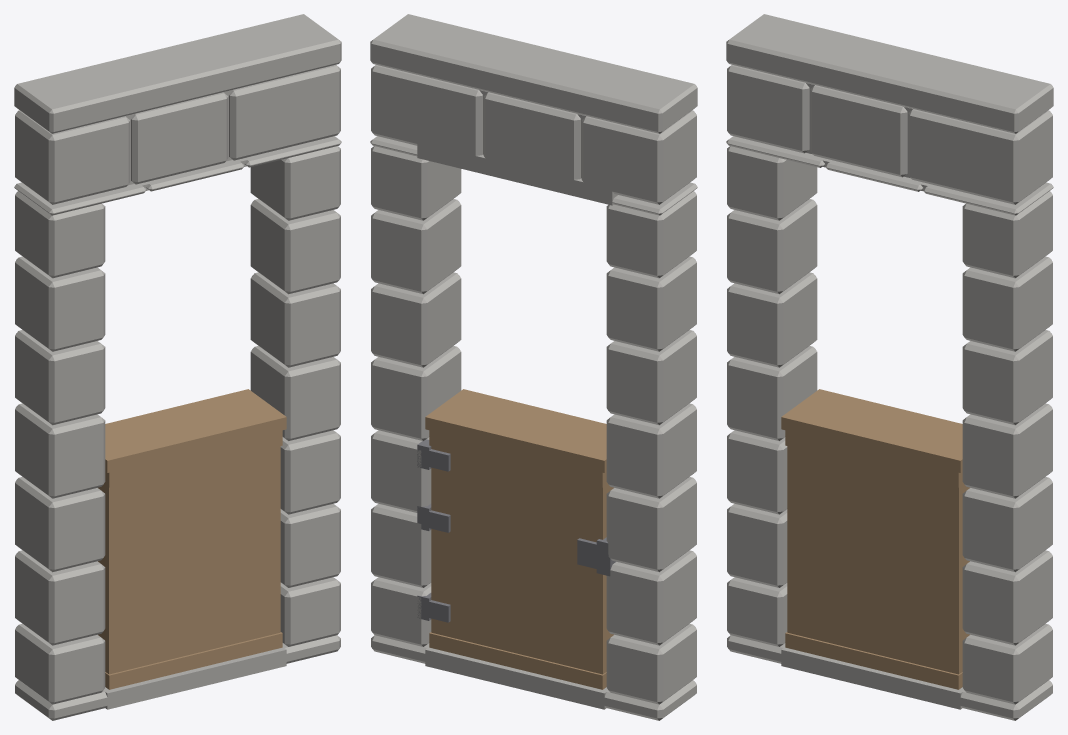
The model's file is wall-stable-door.fbx.
3 renders of one model, left to right at view 1: azimuth 30°, elevation 25°; view 2: azimuth 150°, elevation 25°; view 3: azimuth 330°, elevation 25°, orthographic.
Visible parts, largest first — view 1: wall-stable-door; view 2: wall-stable-door; view 3: wall-stable-door.
Boxes of the visible parts, left/top/right/bottom form: wall-stable-door: left=14, top=14, right=341, bottom=720; wall-stable-door: left=370, top=14, right=697, bottom=720; wall-stable-door: left=726, top=14, right=1053, bottom=720.
Size of the model in its own units: 1.5 by 3 by 0.34.
